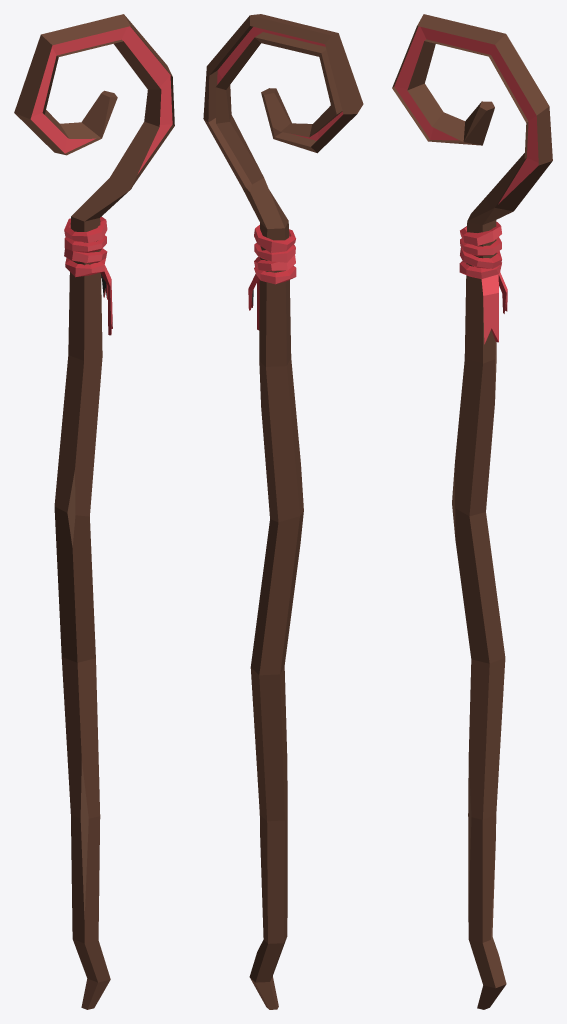
The model's file is WizardStaff_02.glb.
The picture shows the model from 3 angles, left to right: view 1: azimuth 30°, elevation 25°; view 2: azimuth 150°, elevation 25°; view 3: azimuth 330°, elevation 25°; orthographic projection.
Parts seen in each view (by area): view 1: WizardStaff_02; view 2: WizardStaff_02; view 3: WizardStaff_02.
Boxes of the visible parts, box(x1,y1,x2,y2) form: WizardStaff_02: box(14, 14, 174, 1009); WizardStaff_02: box(203, 14, 363, 1009); WizardStaff_02: box(392, 14, 552, 1009).
Size of what is drawn, in the model's own units: 0.3419 by 2.07 by 0.1242.
Materials: 1 (1 with a texture image).
